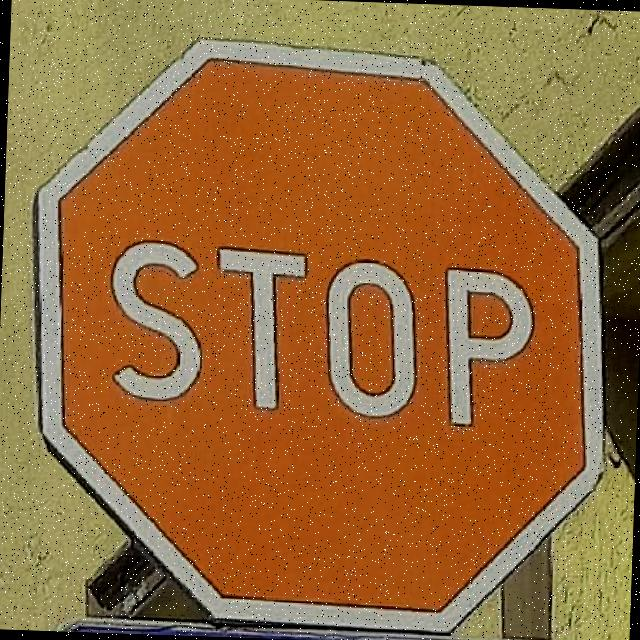Stop: (17, 31, 620, 640)
